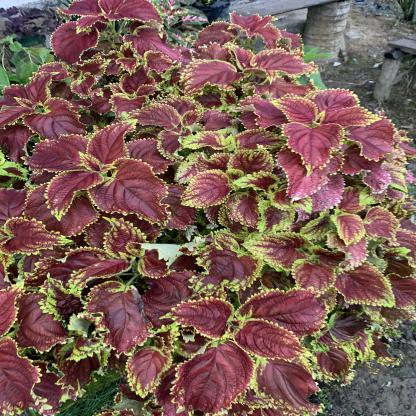Bunga Coleus: (18, 25, 387, 397)
